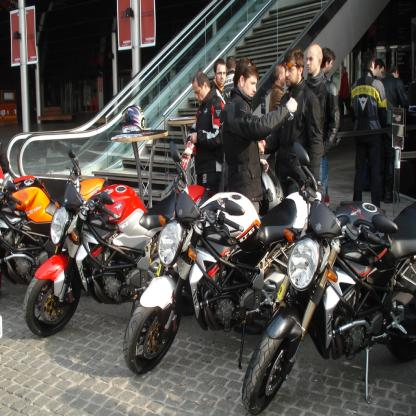Helmet: (119, 103, 144, 135)
